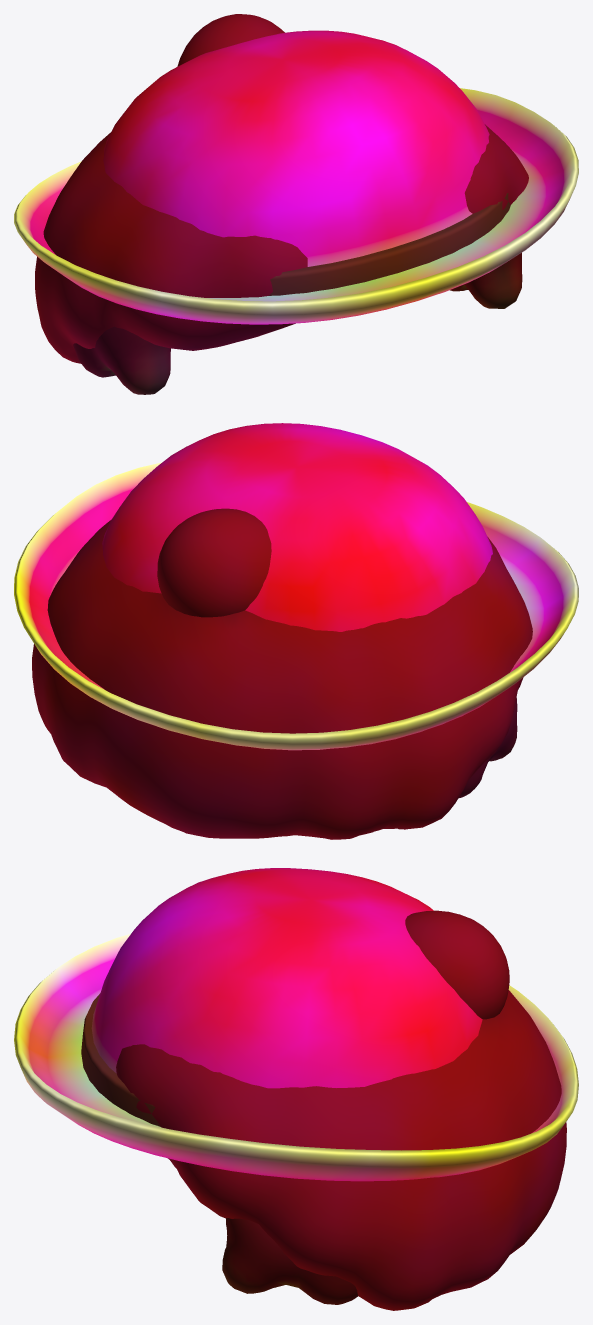
Rendered from BusinessTravelerLooks.fbx.
3 views of the same model, one above another, from view 1: azimuth 30°, elevation 25°; view 2: azimuth 150°, elevation 25°; view 3: azimuth 270°, elevation 25° (orthographic). The views are drawn at different scales.
Visible parts, largest first — view 1: Look_Bowler_Hat, Look_Bun_Hair, Look_Bowler_Hair; view 2: Look_Bun_Hair, Look_Bowler_Hat, Look_Bowler_Hair; view 3: Look_Bowler_Hat, Look_Bun_Hair, Look_Bowler_Hair.
Part boxes in pixels (x1,y1,x2,y2): Look_Bowler_Hat: (14, 30, 578, 324); Look_Bun_Hair: (35, 14, 528, 363); Look_Bowler_Hair: (73, 253, 522, 394); Look_Bun_Hair: (32, 508, 532, 839); Look_Bowler_Hat: (14, 423, 578, 750); Look_Bowler_Hair: (459, 697, 517, 797); Look_Bowler_Hat: (14, 868, 578, 1181); Look_Bun_Hair: (116, 910, 566, 1310); Look_Bowler_Hair: (222, 1218, 357, 1304).
Bounding box in the file's own units: 0.7575 × 0.4624 × 0.7021.
